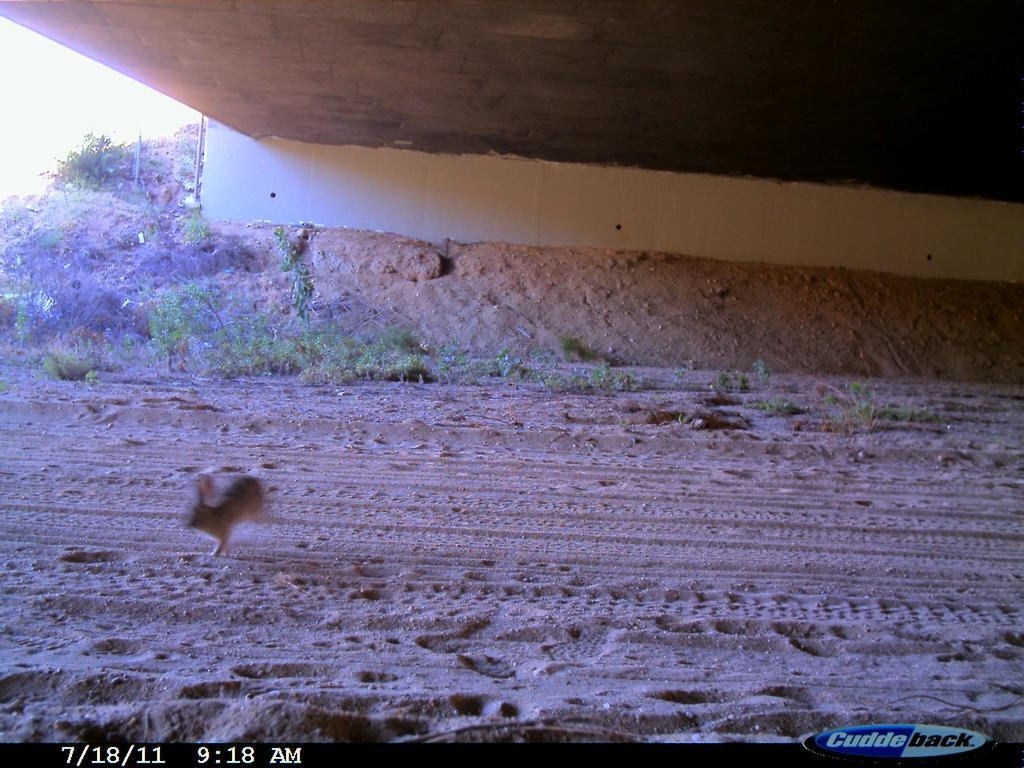rabbit: (177, 466, 273, 565)
